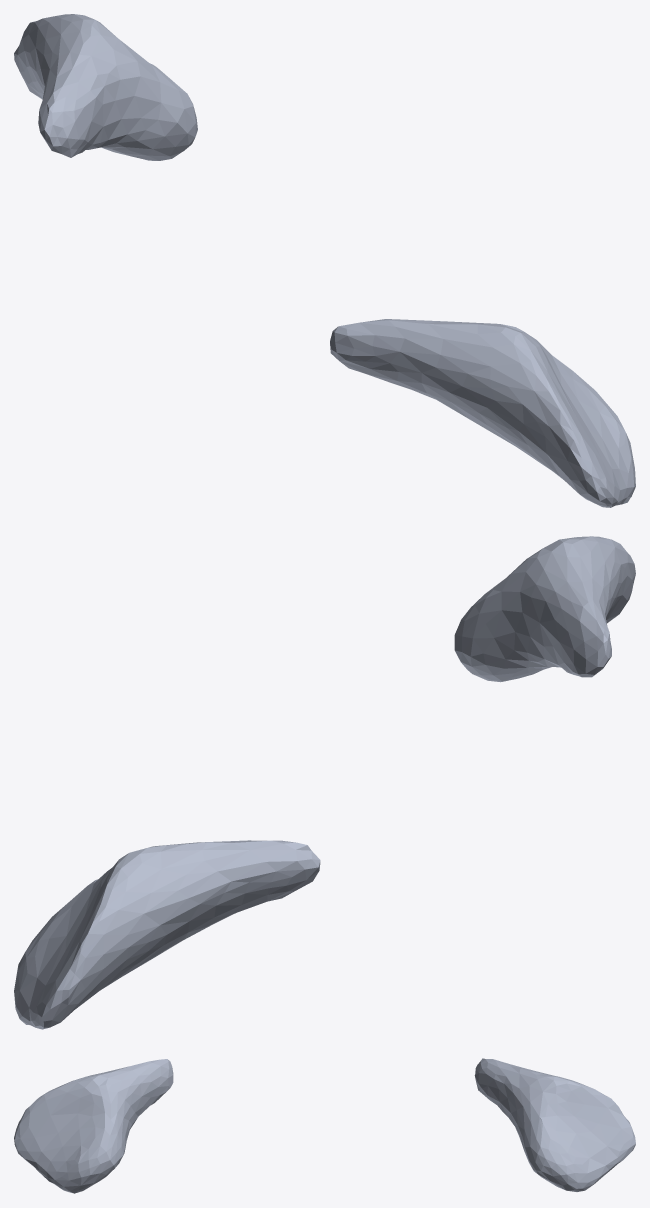
The picture shows the model from 3 angles, top to bottom: view 1: azimuth 30°, elevation 25°; view 2: azimuth 150°, elevation 25°; view 3: azimuth 270°, elevation 25°; orthographic projection. The views are drawn at different scales.
Parts seen in each view (by area): view 1: 298.obj; view 2: 298.obj; view 3: 298.obj.
Boxes of the visible parts, <box> form: 298.obj: <box>14,14,635,507</box>; 298.obj: <box>14,536,635,1029</box>; 298.obj: <box>14,1058,635,1193</box>.
Size of the model in its own units: 1005 by 754 by 4543.
